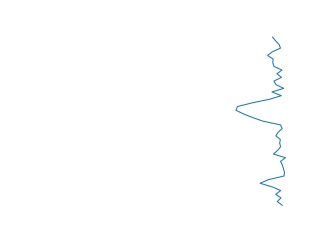interdistributaryEstuary: (234, 37, 294, 206)
